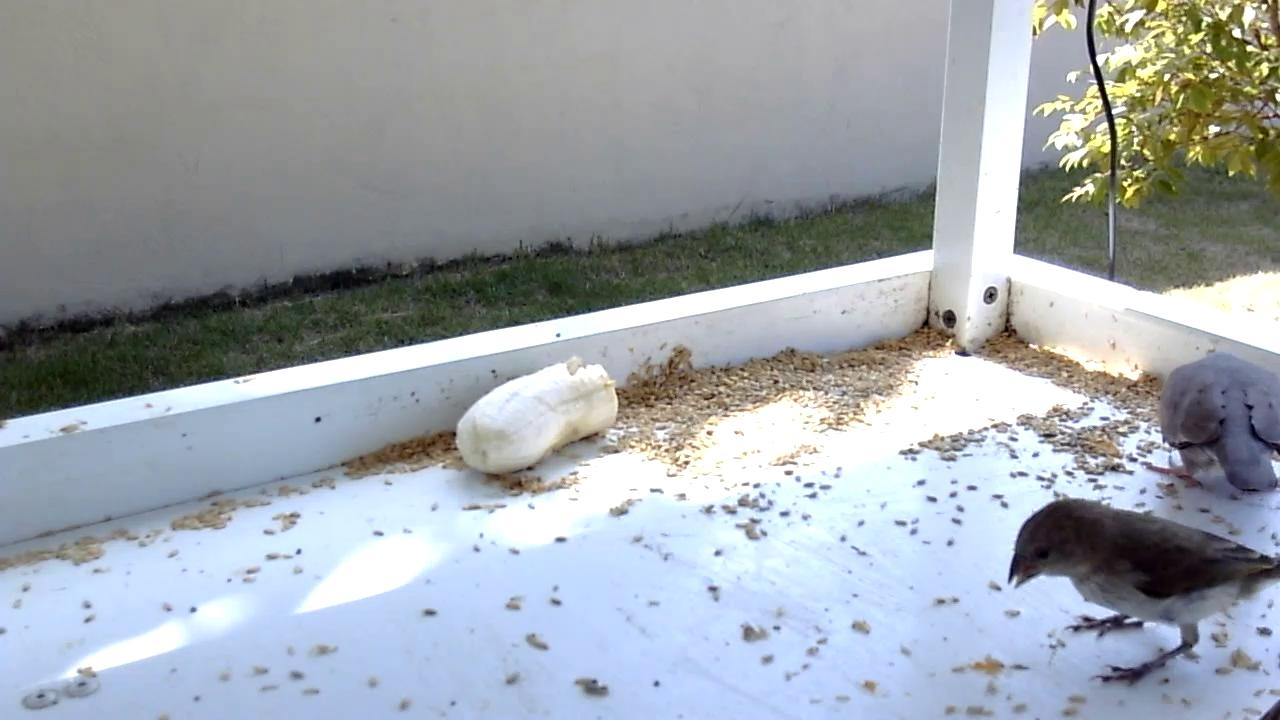canario_do_amazonas: (1003, 499, 1280, 692)
rolinha: (1135, 350, 1280, 497)
